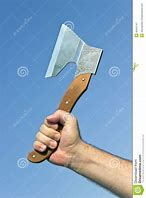axe: (25, 22, 103, 163)
